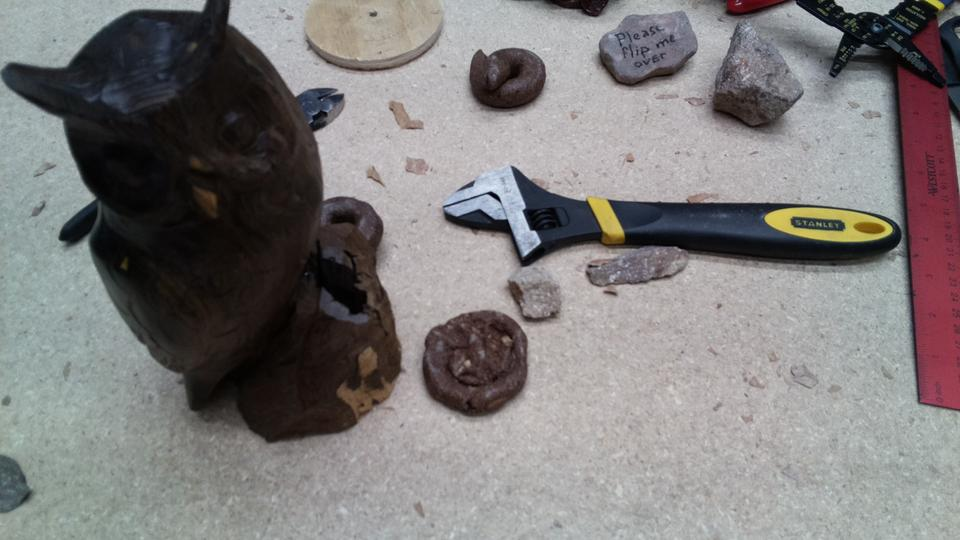poop: (418, 307, 532, 422), (465, 45, 547, 115)
